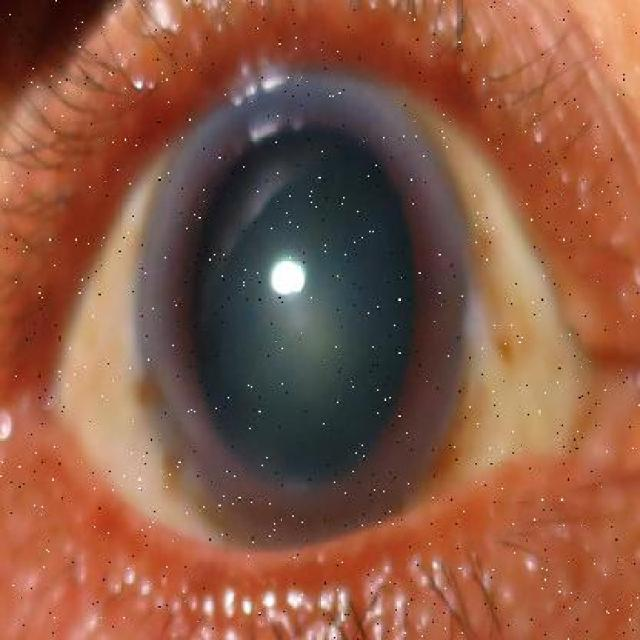Cataract: (98, 54, 512, 557)
